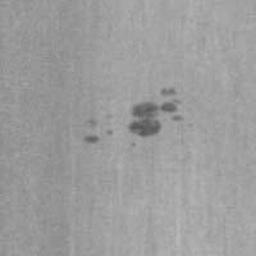Oil spot: (128, 86, 184, 138), (82, 134, 101, 143), (83, 118, 100, 128), (106, 128, 115, 138), (127, 141, 138, 147)
